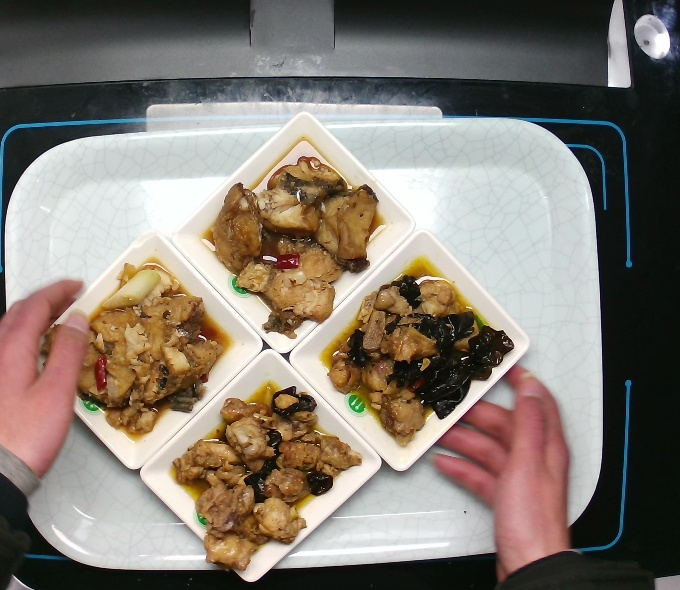wcq-MuErRouKuai: (169, 376, 365, 574), (321, 267, 518, 450)
wcq-YuKuai: (202, 151, 384, 343), (39, 257, 229, 437)
